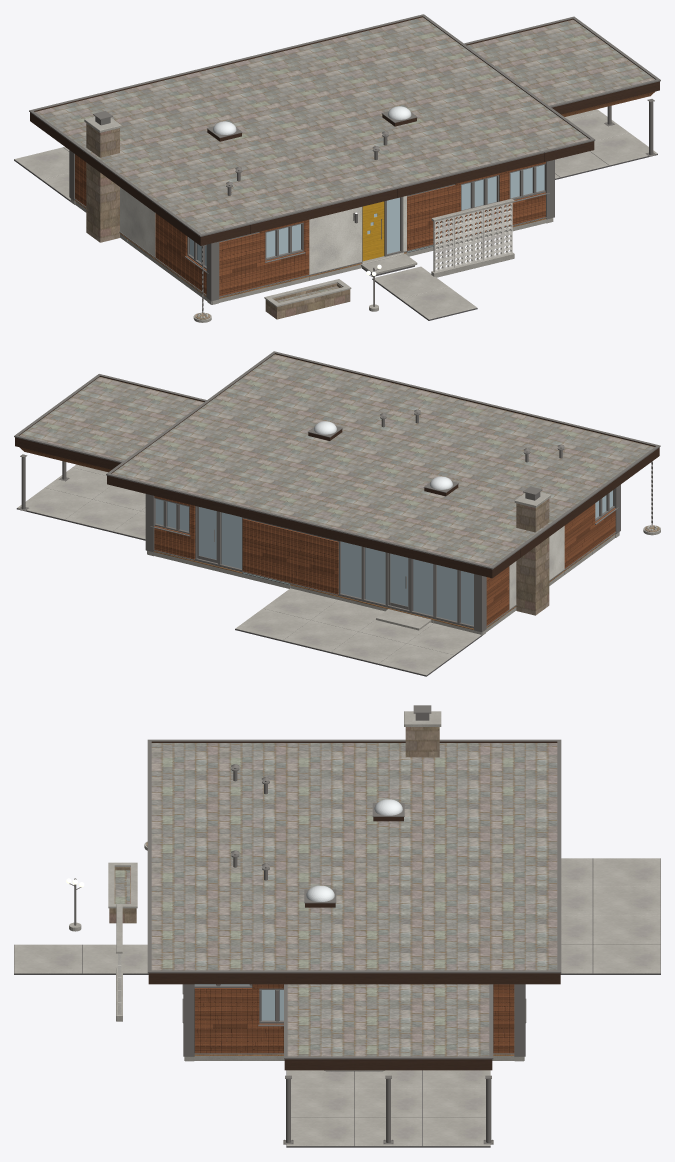
Rendered from building_assembled.glb.
3 views of the same model, one above another, from view 1: azimuth 30°, elevation 25°; view 2: azimuth 150°, elevation 25°; view 3: azimuth 270°, elevation 25° (orthographic). The views are drawn at different scales.
Parts seen in each view (by area): view 1: building_roofdeck, building_concrete, building_metal, building_boards, building_fascia, building_render, building_stone2, building_breeze, building_glass, building_door, building_dark, building_dome (+1 smaller); view 2: building_roofdeck, building_concrete, building_metal, building_boards, building_glass, building_fascia, building_stone2, building_dark, building_render, building_floor, building_dome; view 3: building_roofdeck, building_concrete, building_metal, building_fascia, building_boards, building_stone2, building_dark, building_dome, building_glass.
Part boxes in pixels (<box>): building_roofdeck: <box>35,17,655,302</box>; building_concrete: <box>14,109,657,322</box>; building_metal: <box>29,14,660,312</box>; building_boards: <box>75,154,545,296</box>; building_fascia: <box>30,16,659,245</box>; building_render: <box>120,187,406,274</box>; building_stone2: <box>86,123,350,319</box>; building_breeze: <box>433,203,512,272</box>; building_glass: <box>190,165,544,266</box>; building_door: <box>362,201,384,261</box>; building_dark: <box>14,147,657,320</box>; building_dome: <box>213,106,411,134</box>; building_roofdeck: <box>19,354,654,566</box>; building_concrete: <box>17,464,660,675</box>; building_metal: <box>14,351,660,632</box>; building_boards: <box>154,496,615,625</box>; building_glass: <box>155,490,612,625</box>; building_fascia: <box>15,353,659,578</box>; building_stone2: <box>516,498,659,615</box>; building_dark: <box>16,495,606,676</box>; building_render: <box>509,526,564,609</box>; building_floor: <box>154,533,615,629</box>; building_dome: <box>313,421,452,489</box>; building_roofdeck: <box>115,743,557,1056</box>; building_concrete: <box>14,711,660,1146</box>; building_metal: <box>69,705,561,1144</box>; building_fascia: <box>148,741,560,1070</box>; building_boards: <box>194,984,514,1053</box>; building_stone2: <box>109,727,439,923</box>; building_dark: <box>14,858,660,1147</box>; building_dome: <box>306,799,402,901</box>; building_glass: <box>194,984,283,1020</box>.
Bounding box in the file's own units: 21.24 × 4.7 × 19.
21 materials, 12 textured.
